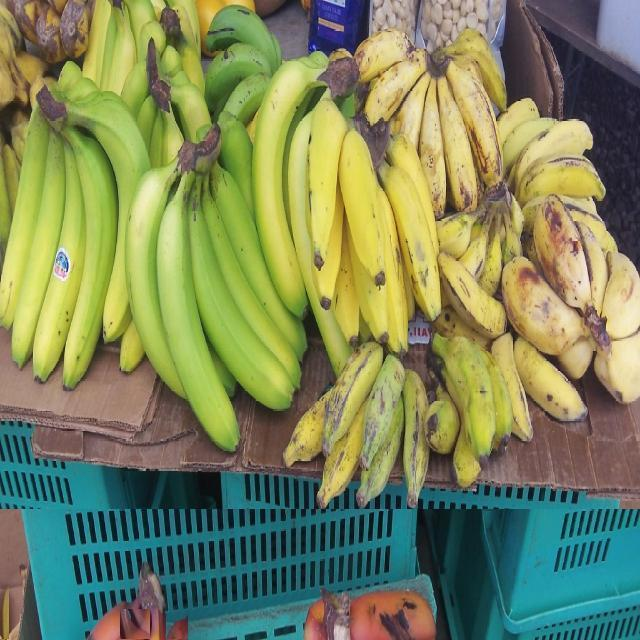Banana: (250, 51, 443, 372), (120, 130, 308, 454), (3, 64, 153, 384), (503, 189, 640, 406), (350, 20, 506, 198), (282, 343, 432, 499), (84, 602, 140, 640), (148, 600, 188, 639), (120, 610, 150, 640), (166, 614, 188, 639), (150, 610, 166, 640), (0, 586, 9, 639)
